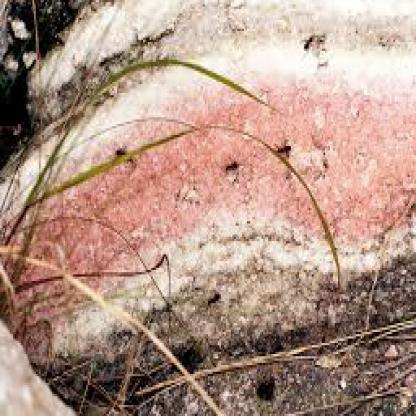Metamorphic_Quartize: (0, 9, 415, 415)
